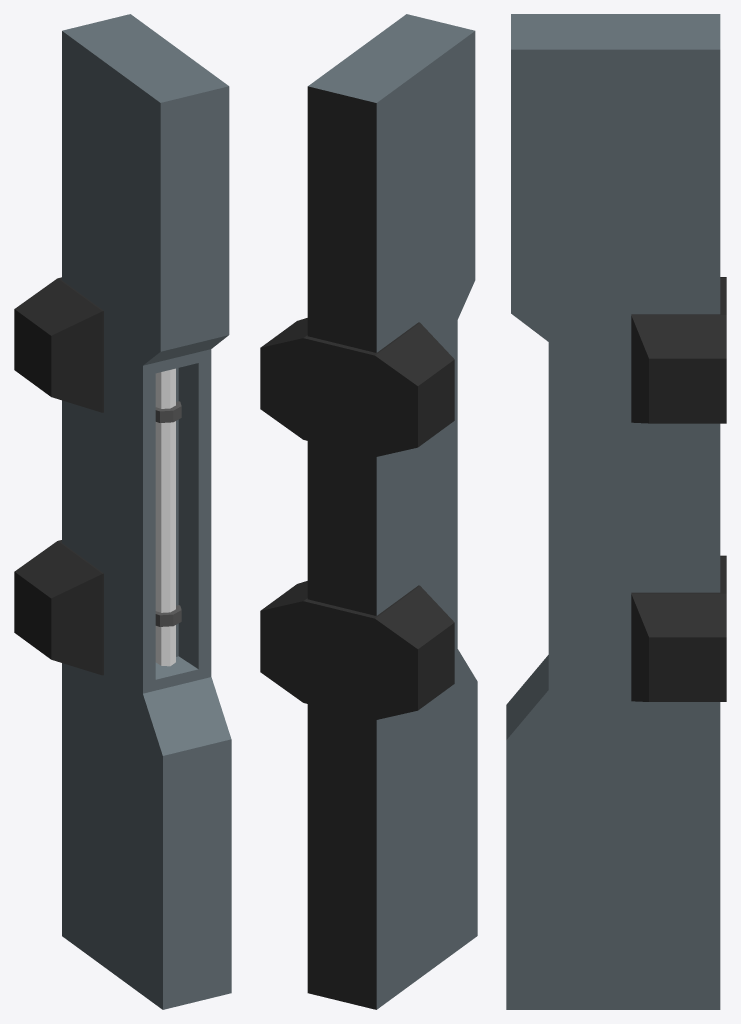
Rendered from SM_Bld_Wall_Pillar_05.fbx.
3 views of the same model, side by side, from view 1: azimuth 30°, elevation 25°; view 2: azimuth 150°, elevation 25°; view 3: azimuth 270°, elevation 25° (orthographic). The views are drawn at different scales.
Visible parts, largest first — view 1: SM_Bld_Wall_Pillar_05; view 2: SM_Bld_Wall_Pillar_05; view 3: SM_Bld_Wall_Pillar_05.
Part boxes in pixels (x1=…): SM_Bld_Wall_Pillar_05: x1=14, y1=14, x2=231, y2=1009; SM_Bld_Wall_Pillar_05: x1=260, y1=14, x2=477, y2=1009; SM_Bld_Wall_Pillar_05: x1=506, y1=14, x2=726, y2=1009.
Bounding box in the file's own units: 92.63 × 509 × 106.
Materials: 1 (1 with a texture image).
